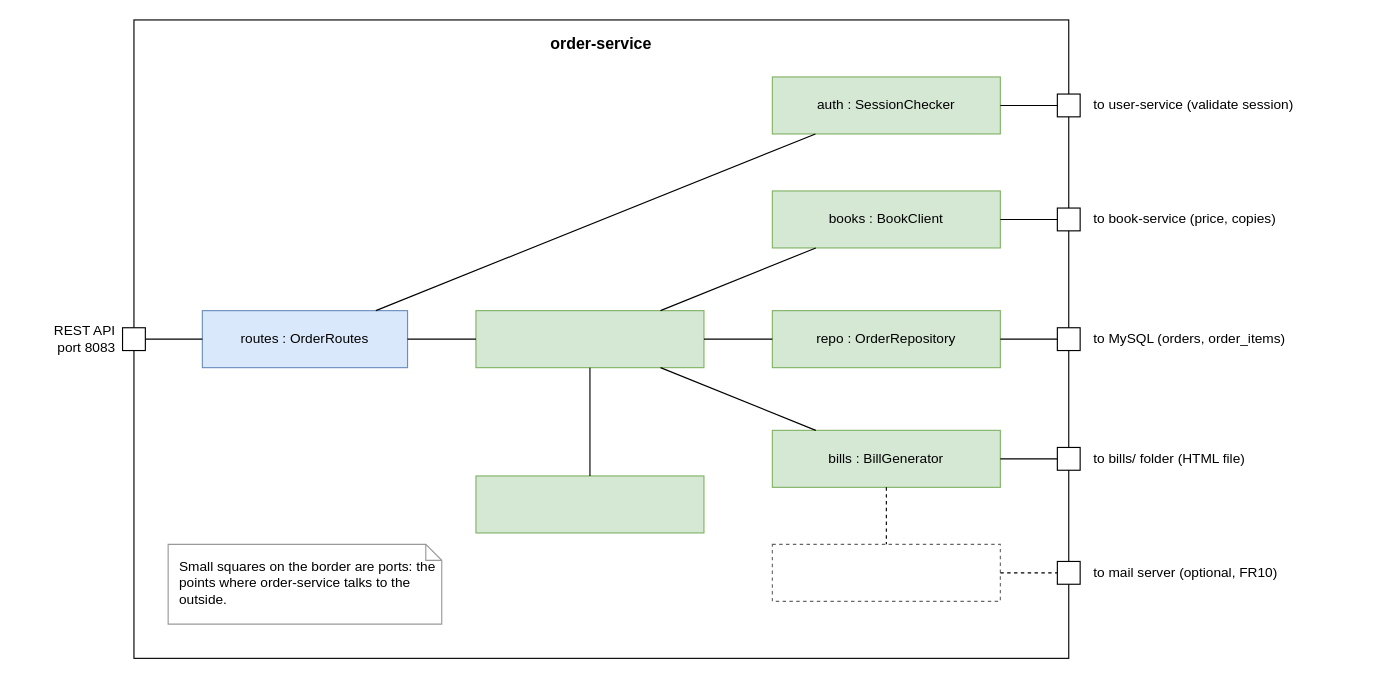
The diagram is 1384 pixels wide and 678 high, and some of its shapes have lost their labels. Each missing label, with the centre of its shape:
mail : EmailSender [0..1]: the point at 885,572
pricing : PriceCalculator: the point at 589,504
service : OrderService: the point at 589,339
